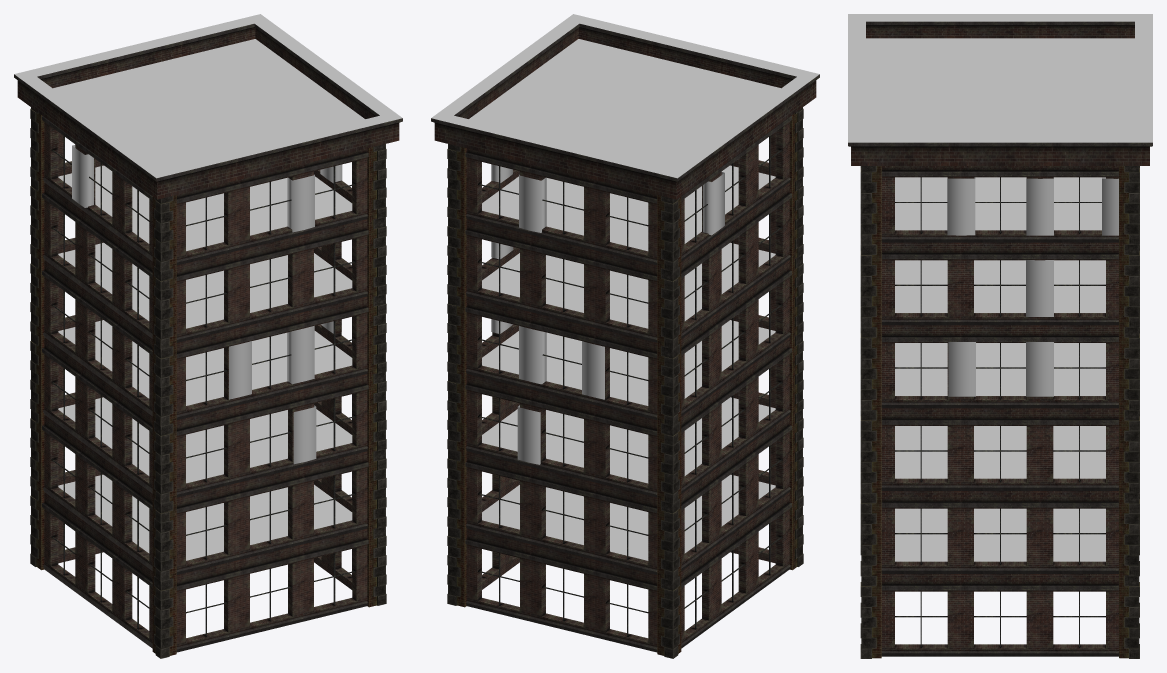
File: BuildingRedSm01.fbx
3 renders of one model, left to right at view 1: azimuth 30°, elevation 25°; view 2: azimuth 150°, elevation 25°; view 3: azimuth 270°, elevation 25°, orthographic. The views are drawn at different scales.
Visible parts, largest first — view 1: Cube, Cube.003, Plane, Plane.003, Plane.001, Plane.004, Plane.002, Cube.054, Cube.053, Cube.056, Cube.055, Cube.002; view 2: Cube, Cube.003, Plane, Plane.003, Plane.001, Plane.002, Plane.004, Cube.063, Cube.062, Cube.061, Cube.064, Cube.002; view 3: Cube, Cube.003, Plane, Plane.001, Plane.002, Plane.003, Plane.004, Cube.047, Cube.046, Cube.049, Cube.050, Cube.051 (+1 smaller).
Boxes of the visible parts, box(x1,y1,x2,y2) form: Cube: box(30, 107, 386, 658); Cube.003: box(14, 14, 402, 199); Plane: box(58, 474, 352, 560); Plane.003: box(58, 242, 352, 328); Plane.001: box(58, 397, 352, 483); Plane.004: box(58, 165, 352, 251); Plane.002: box(58, 320, 352, 405); Cube.054: box(287, 326, 314, 384); Cube.053: box(287, 174, 314, 232); Cube.056: box(293, 405, 316, 464); Cube.055: box(229, 341, 251, 399); Cube.002: box(72, 145, 93, 207); Cube: box(447, 107, 803, 658); Cube.003: box(431, 14, 819, 199); Plane: box(482, 474, 775, 560); Plane.003: box(482, 242, 775, 328); Plane.001: box(482, 397, 775, 483); Plane.002: box(482, 320, 775, 405); Plane.004: box(482, 165, 775, 251); Cube.063: box(519, 326, 546, 384); Cube.062: box(519, 174, 546, 232); Cube.061: box(517, 405, 540, 464); Cube.064: box(582, 341, 604, 399); Cube.002: box(703, 172, 724, 235); Cube: box(860, 166, 1139, 658); Cube.003: box(848, 14, 1152, 165); Plane: box(895, 508, 1105, 561); Plane.001: box(895, 426, 1105, 478); Plane.002: box(895, 343, 1105, 395); Plane.003: box(895, 260, 1105, 312); Plane.004: box(895, 177, 1101, 230); Cube.047: box(947, 177, 975, 235); Cube.046: box(1026, 177, 1053, 235); Cube.049: box(1026, 260, 1053, 316); Cube.050: box(1026, 342, 1053, 396); Cube.051: box(948, 342, 975, 396).
Size of what is drawn, in the model's own units: 1360 by 2570 by 1360.
